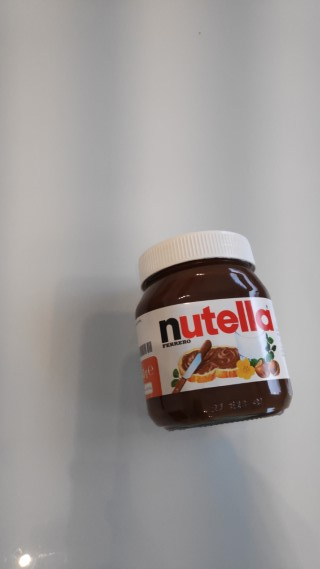nutella: (132, 226, 295, 434)
